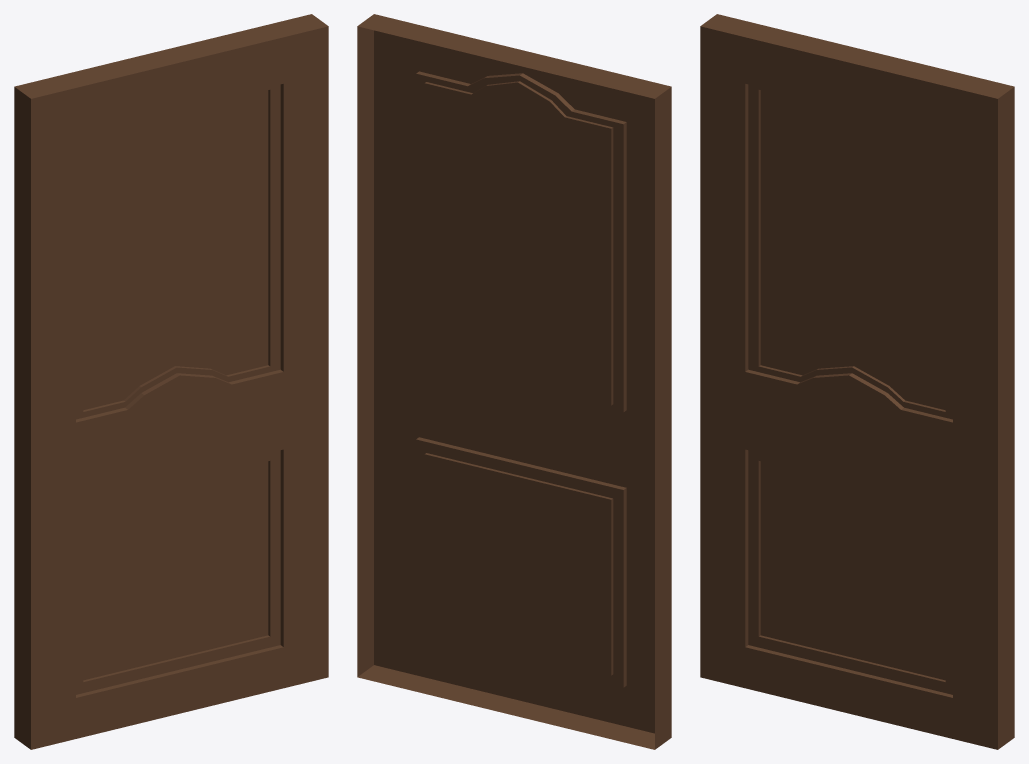
The model's file is Door3.glb.
3 views of the same model, side by side, from view 1: azimuth 30°, elevation 25°; view 2: azimuth 150°, elevation 25°; view 3: azimuth 330°, elevation 25° (orthographic).
Parts seen in each view (by area): view 1: Door3; view 2: Door3; view 3: Door3.
Boxes of the visible parts, x1,y1,x2,y2 form: Door3: (14, 14, 328, 749); Door3: (357, 14, 671, 749); Door3: (700, 14, 1014, 749).
Bounding box in the file's own units: 0.4386 × 0.9169 × 0.0429.
Materials: 1 (1 with a texture image).
